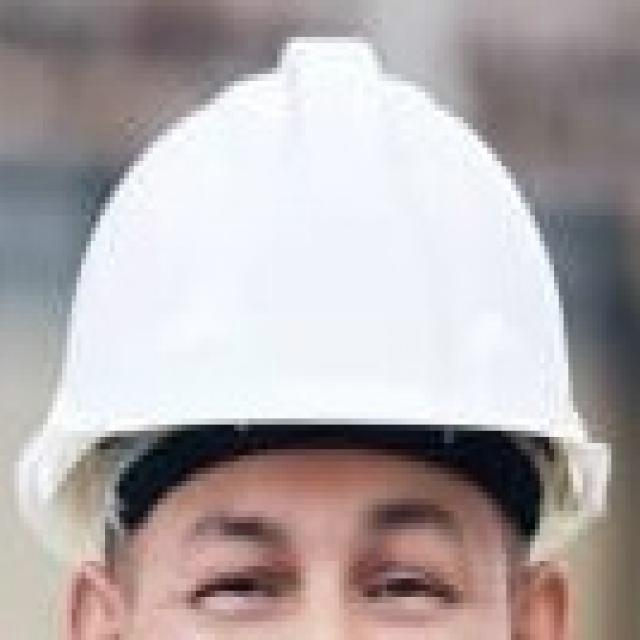safety_helmet: (15, 33, 611, 563)
